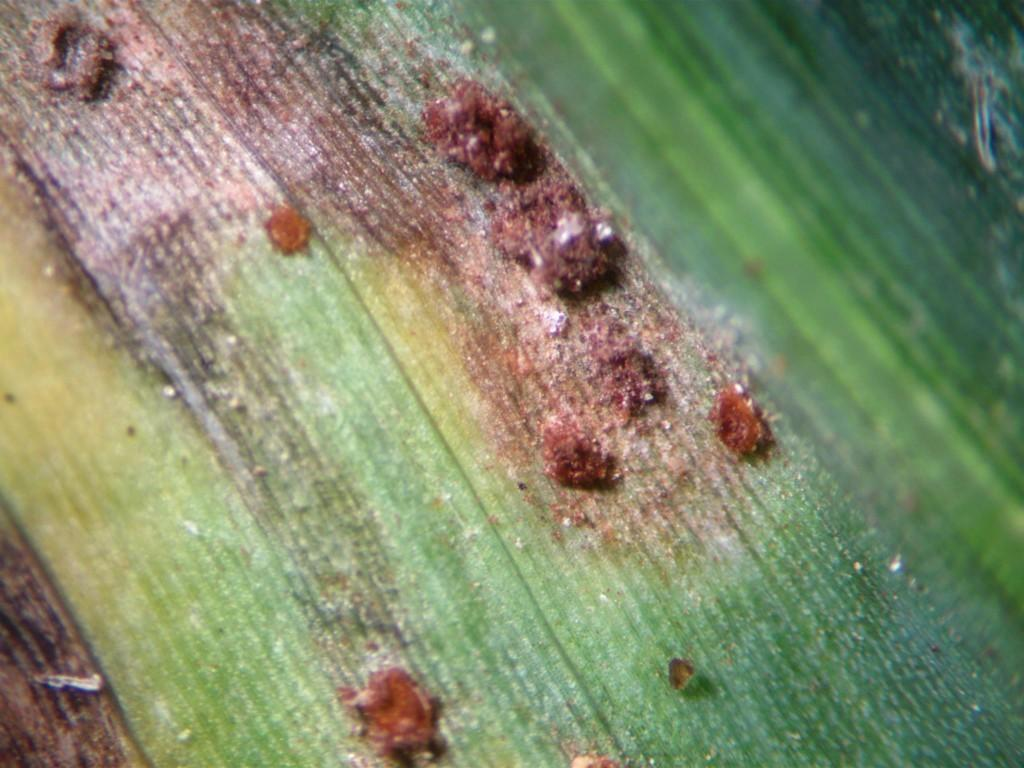Corn_Common_Rust: (0, 0, 803, 768), (928, 0, 1020, 187)
